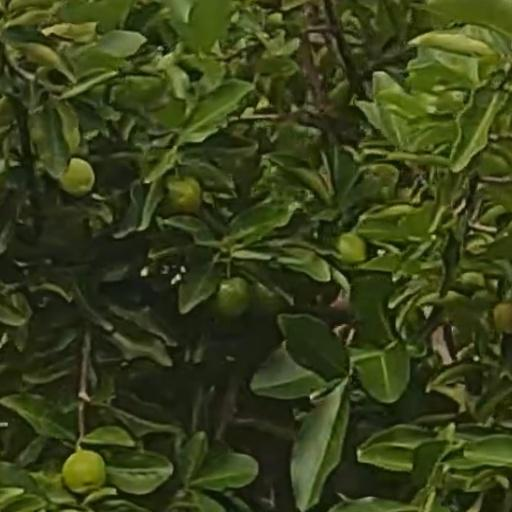acerola: (65, 451, 105, 494), (166, 178, 203, 211), (65, 159, 94, 200), (222, 280, 249, 317)
